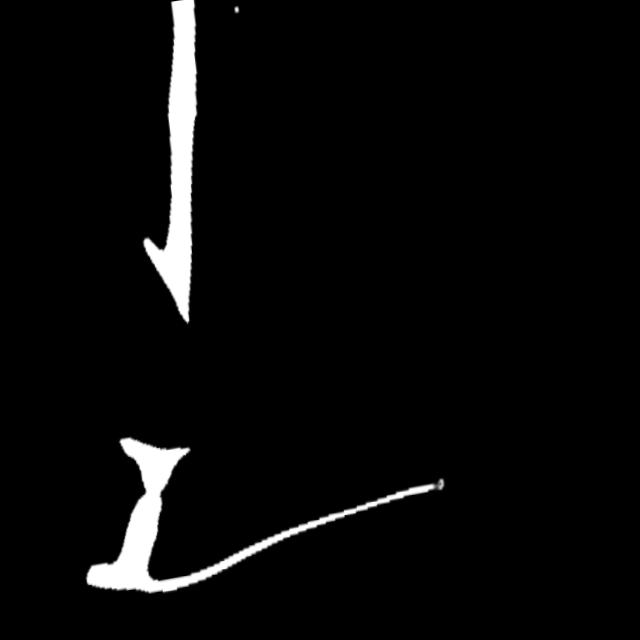stp: (423, 480, 447, 504)
